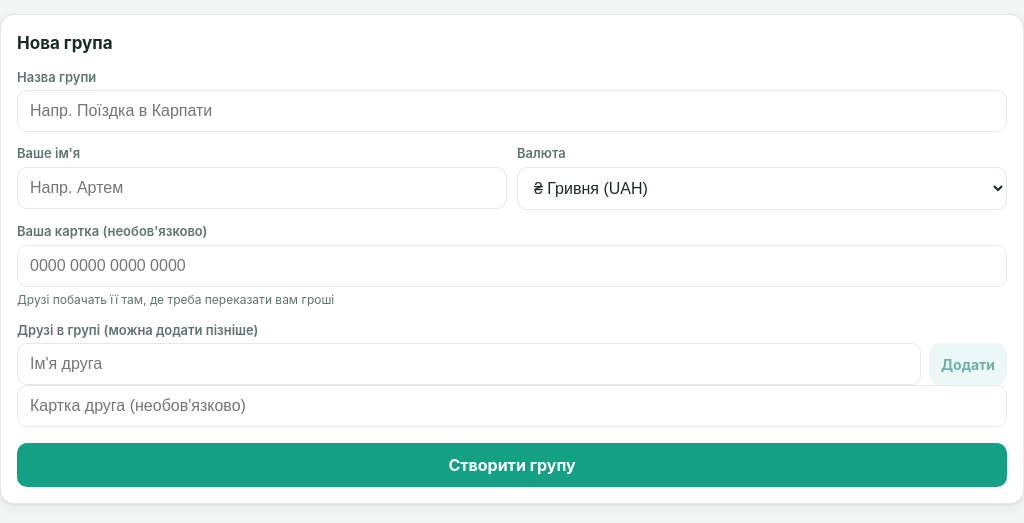
Test: CreateGroupForm › formats the card as it is typed
Type "5375411234567894" into the field labelled "Ваша картка (необов'язково)" at (512, 266), box [17,245,1007,287]
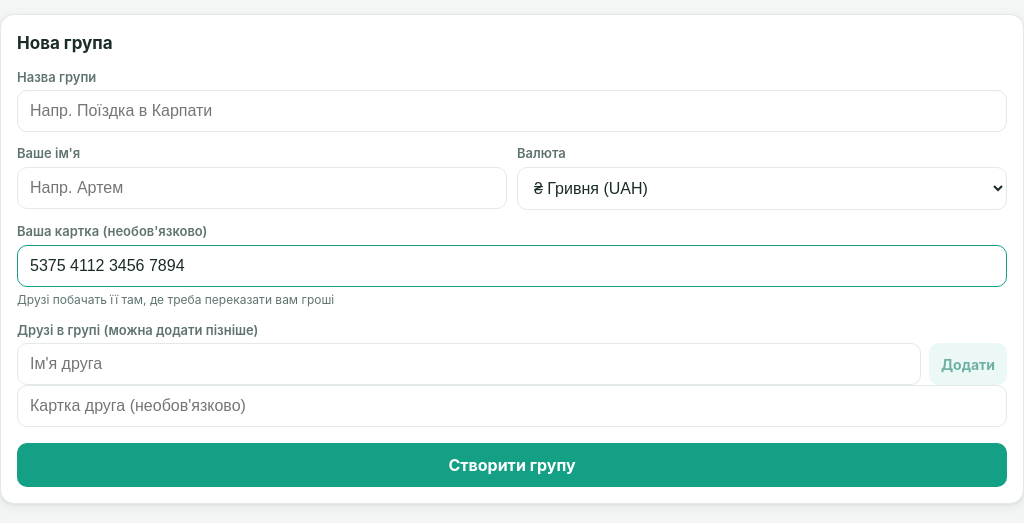
Expected: the field labelled "Ваша картка (необов'язково)" holds "5375 4112 3456 7894", [17,245,1007,287]
